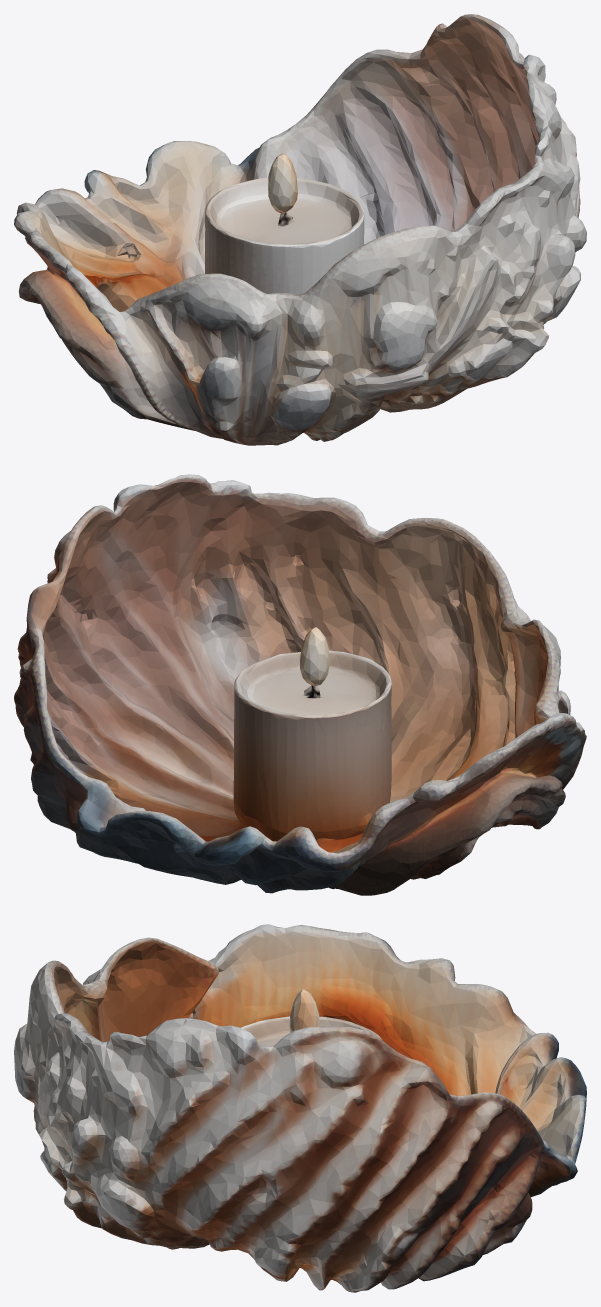
File: natural-shell-scented-candle-holder-3d.jpeg.glb
The picture shows the model from 3 angles, top to bottom: view 1: azimuth 30°, elevation 25°; view 2: azimuth 150°, elevation 25°; view 3: azimuth 270°, elevation 25°; orthographic projection. The views are drawn at different scales.
Parts seen in each view (by area): view 1: world; view 2: world; view 3: world.
Boxes of the visible parts, x1,y1,x2,y2 form: world: [14, 14, 586, 445]; world: [14, 474, 586, 895]; world: [14, 924, 586, 1292].
Size of the model in its own units: 0.9991 by 0.5754 by 0.9901.
Materials: 1 (1 with a texture image).
